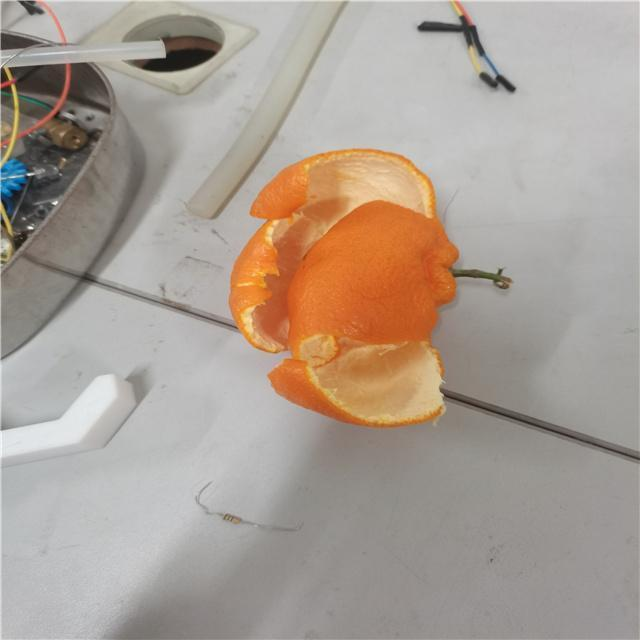orange peel: (224, 142, 464, 436)
